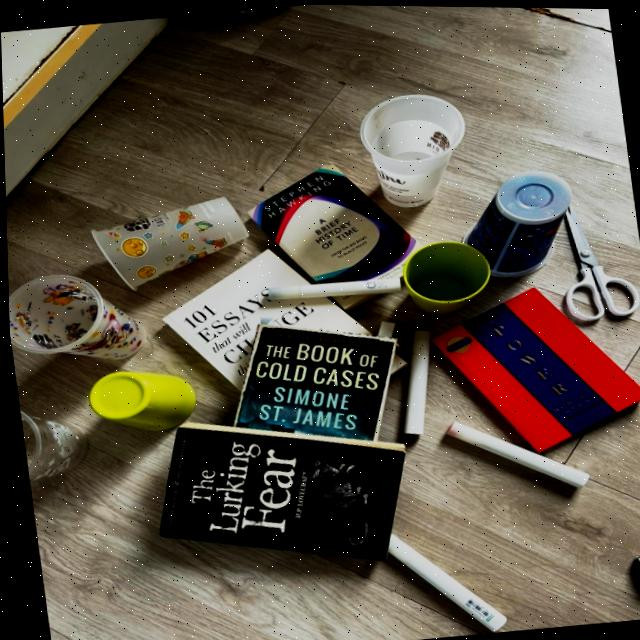Book: (158, 422, 402, 558), (159, 247, 372, 390), (244, 159, 422, 284), (233, 325, 393, 439)
HighLight Pen: (385, 532, 502, 629), (445, 421, 585, 484), (265, 276, 399, 299), (402, 329, 429, 432)
Plastic Cup: (90, 196, 246, 288), (361, 93, 464, 205), (461, 169, 569, 275), (7, 274, 142, 358), (18, 409, 83, 481)
Scissors: (564, 208, 638, 317)
WaterGlass: (401, 240, 488, 313), (87, 371, 193, 430)
